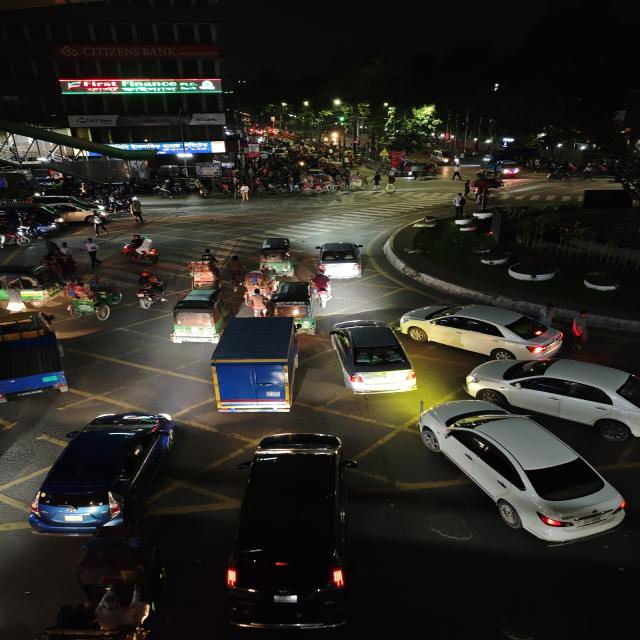car: (416, 400, 635, 551), (224, 430, 358, 640), (22, 407, 184, 539), (456, 348, 640, 456), (396, 300, 567, 362), (327, 316, 419, 396), (10, 194, 107, 226), (312, 238, 372, 280), (432, 148, 458, 166)
cng: (169, 288, 232, 348), (0, 264, 61, 310), (268, 279, 318, 318), (255, 236, 298, 276)
motorcycle: (118, 233, 162, 265), (132, 274, 170, 310), (307, 269, 337, 307), (547, 170, 573, 183)
pedestrian: (470, 170, 502, 208), (246, 288, 270, 316), (88, 208, 110, 237), (83, 237, 103, 267), (127, 199, 146, 225), (451, 192, 468, 217), (383, 174, 398, 196), (236, 183, 251, 203), (371, 171, 384, 191), (451, 168, 464, 182)
pickup_van: (485, 160, 519, 177)
rickshaw: (60, 279, 123, 323), (268, 281, 316, 318), (183, 253, 222, 287), (240, 268, 276, 296), (306, 174, 335, 195), (412, 161, 442, 181), (348, 174, 369, 190)
truck: (207, 316, 306, 418), (0, 308, 72, 408)
